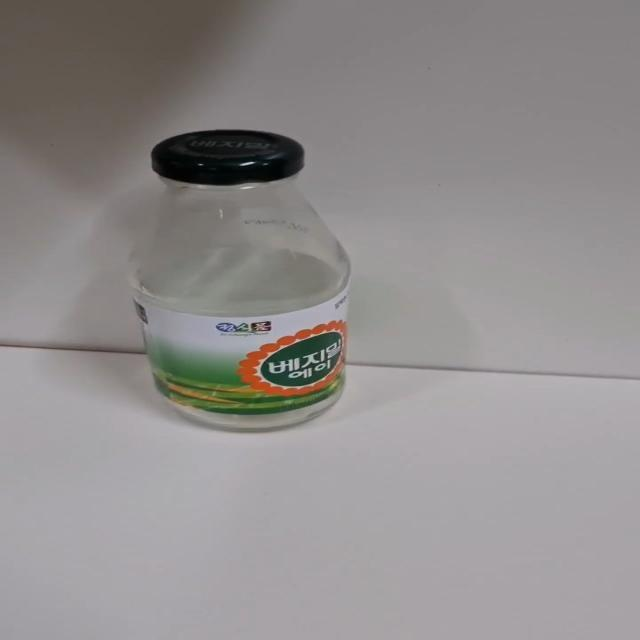Glass: (128, 130, 353, 434)
